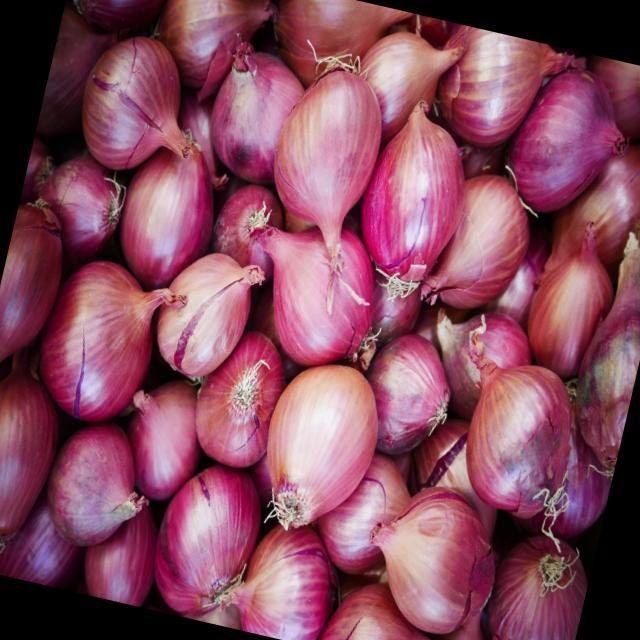ONIONS: (246, 356, 388, 554), (448, 360, 582, 530), (70, 16, 210, 170), (34, 256, 158, 425), (271, 69, 390, 231), (146, 461, 272, 606), (37, 421, 149, 539), (153, 254, 256, 372), (0, 377, 67, 539)
